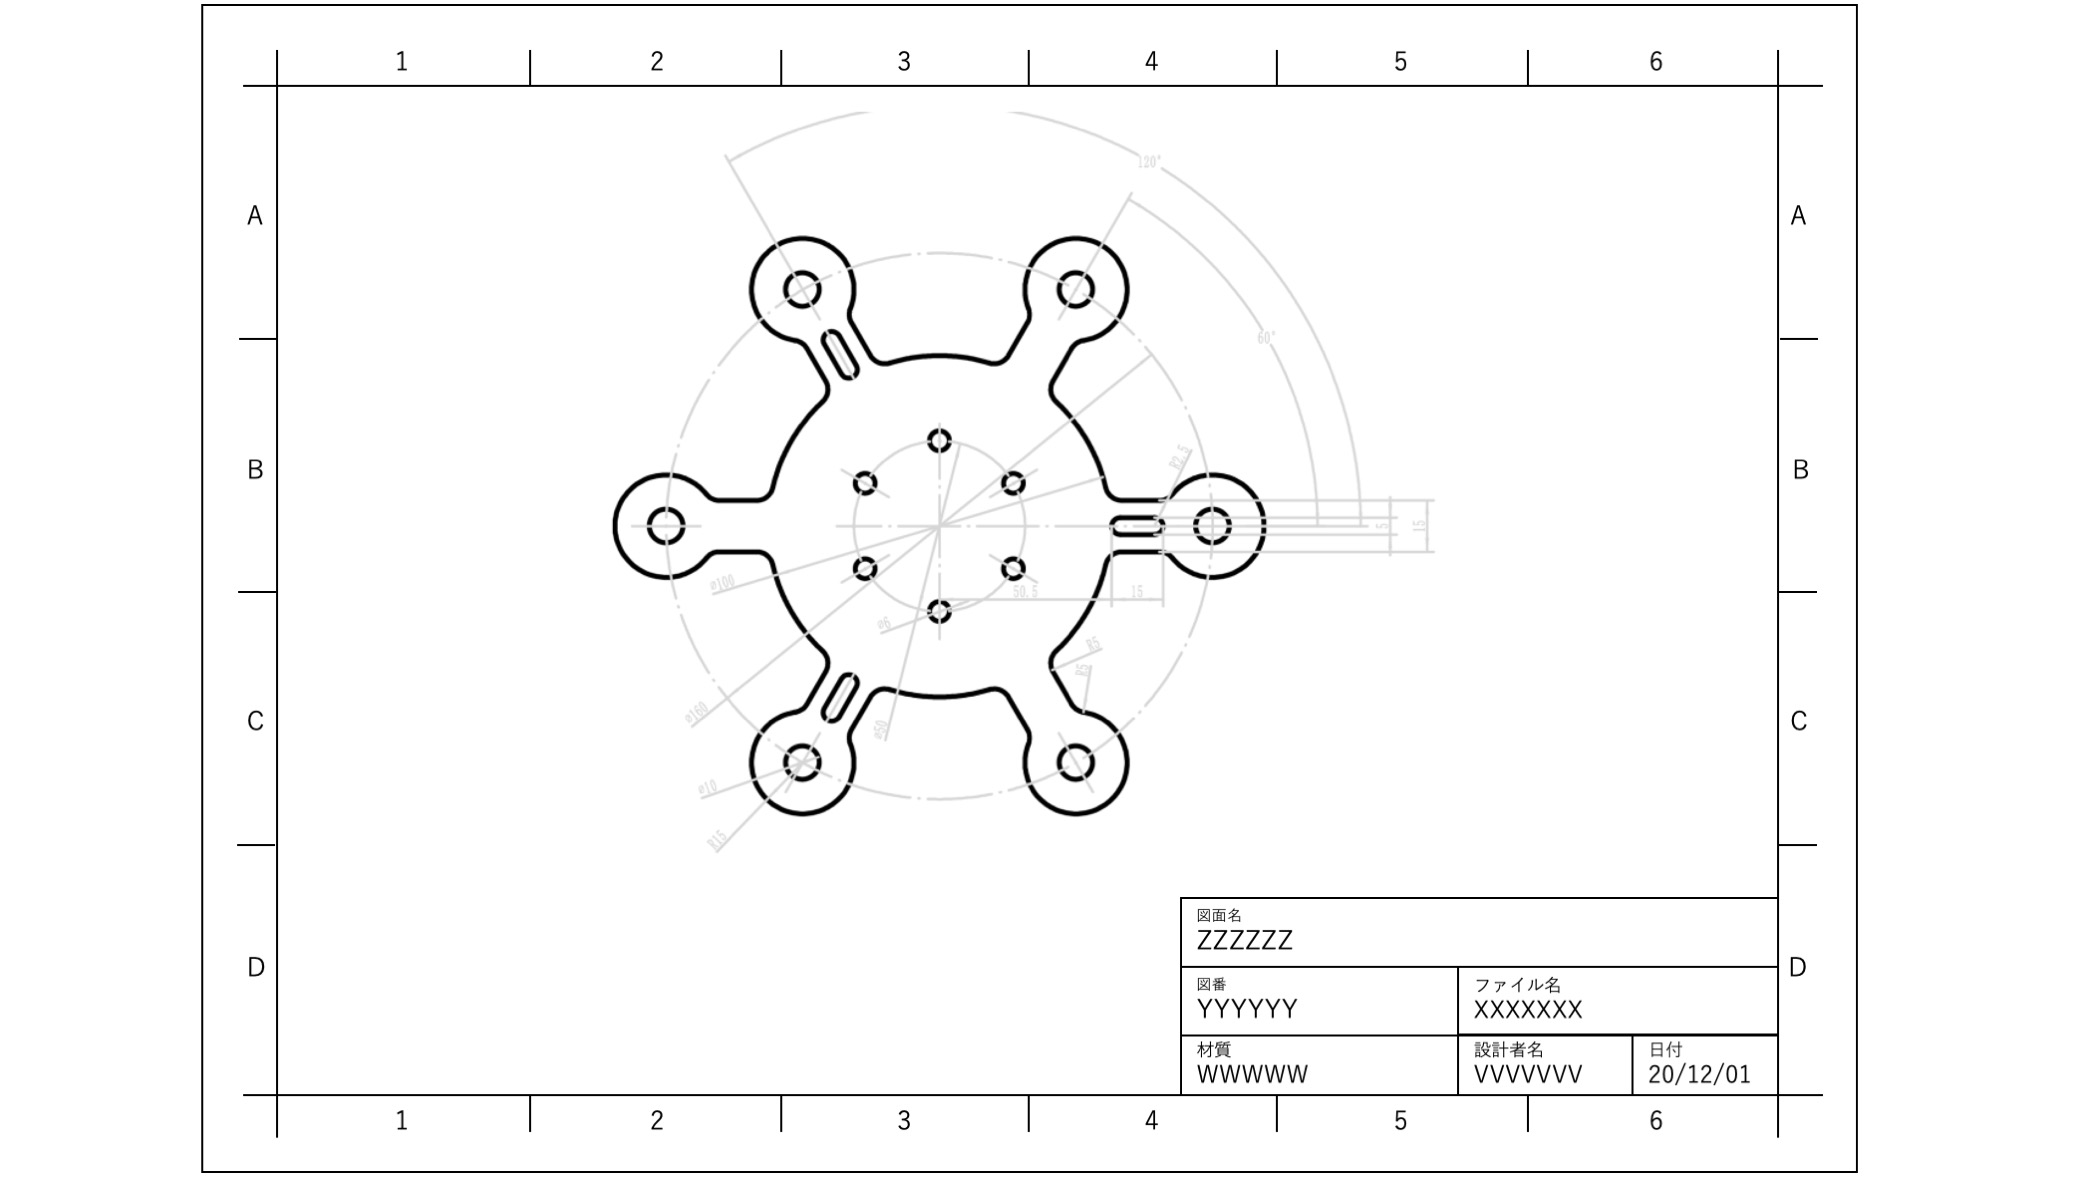circle: (785, 735, 831, 784), (648, 499, 689, 552), (1060, 262, 1098, 319), (785, 262, 824, 311), (1054, 741, 1098, 782), (1193, 502, 1232, 547), (925, 420, 953, 467), (842, 547, 880, 583), (997, 460, 1030, 499), (997, 549, 1030, 588), (923, 594, 952, 629), (850, 467, 878, 502)
round_rectangle: (819, 323, 861, 381), (826, 662, 855, 725), (1100, 510, 1167, 538)
